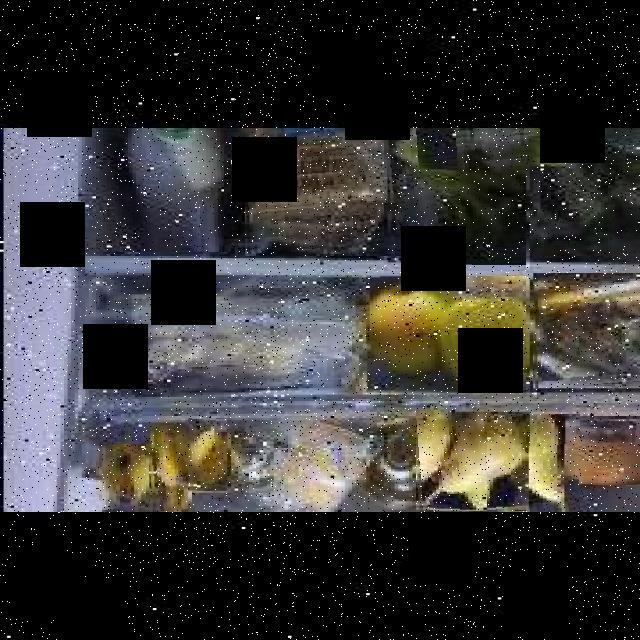apple: (363, 276, 526, 390)
banana: (146, 425, 188, 512), (185, 416, 227, 491), (100, 444, 146, 512)
bread: (242, 128, 384, 254)
broccoli: (384, 128, 526, 265)
humus: (562, 417, 640, 485)
milk: (107, 128, 224, 252)
pear: (412, 413, 526, 511), (487, 414, 580, 512)
pineapple: (530, 273, 640, 388)
salad: (412, 128, 566, 166)
